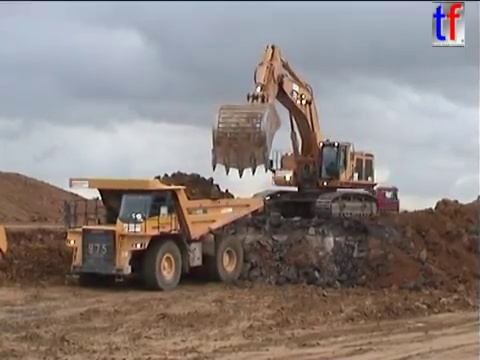excavator: (208, 41, 383, 227)
truck: (62, 175, 267, 292), (294, 182, 402, 227), (1, 221, 9, 258)
